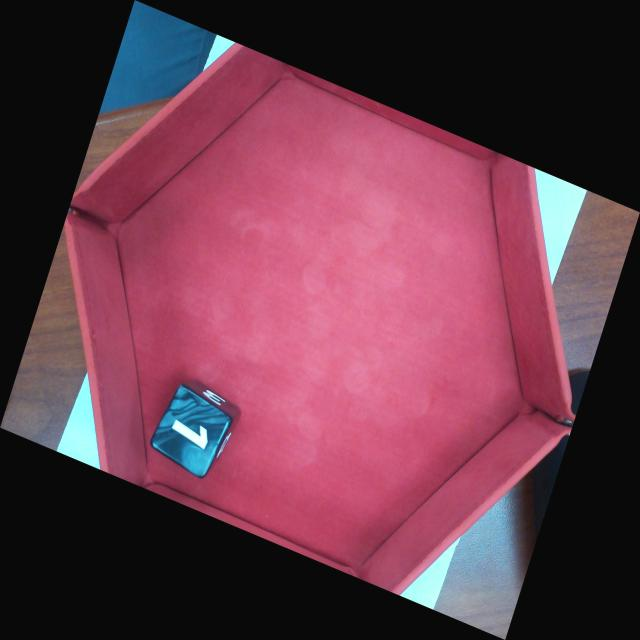dice: (147, 383, 232, 481)
